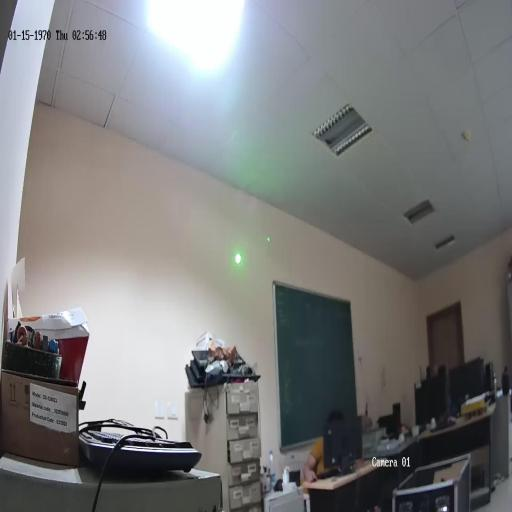laser: (233, 248, 243, 267)
